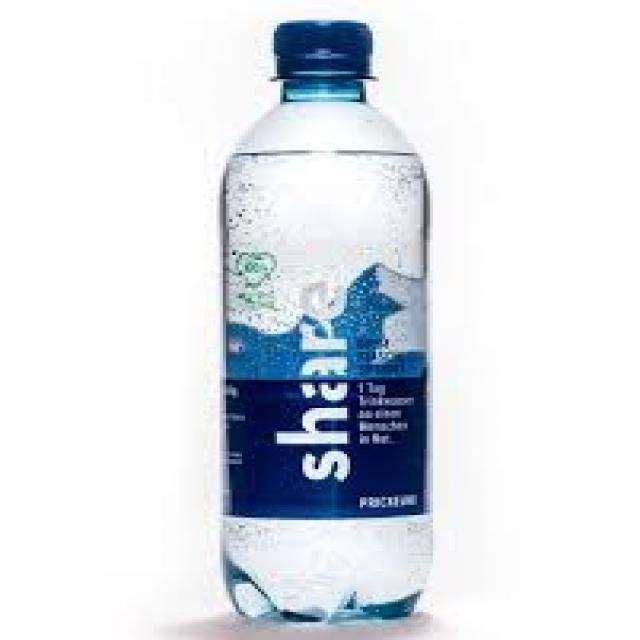Plastic: (213, 20, 436, 622)
